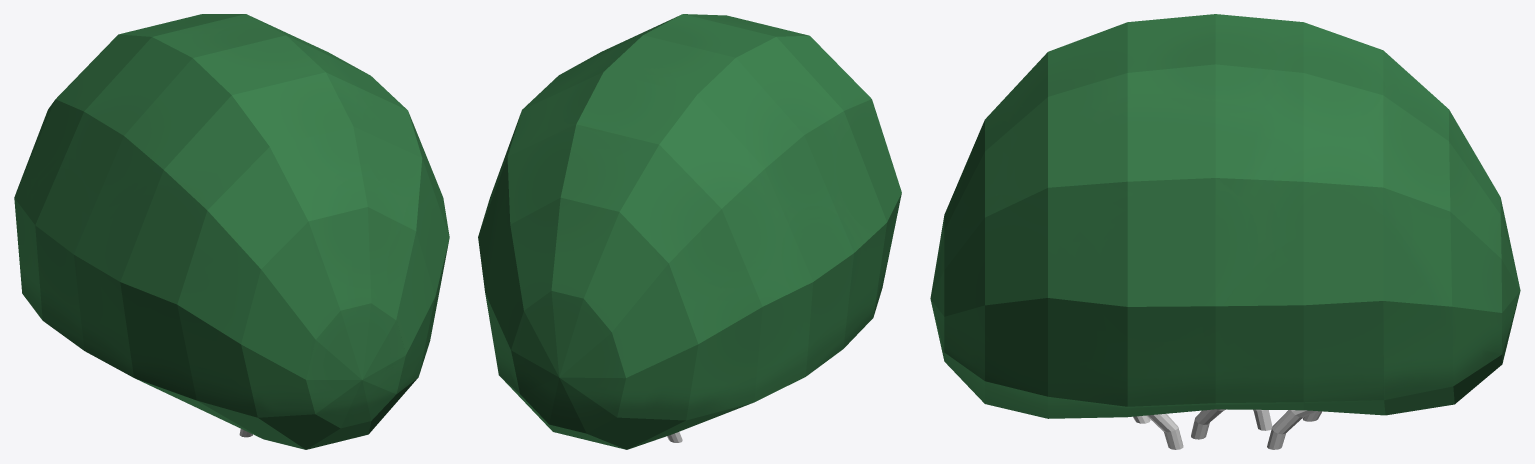
Rendered from bush (1).fbx.
The picture shows the model from 3 angles, left to right: view 1: azimuth 30°, elevation 25°; view 2: azimuth 150°, elevation 25°; view 3: azimuth 270°, elevation 25°; orthographic projection. The views are drawn at different scales.
Parts seen in each view (by area): view 1: pSphere1; view 2: pSphere1; view 3: pSphere1, pCylinder3, pCylinder1.
Boxes of the visible parts, left/top/right/bottom form: pSphere1: left=14, top=14, right=449, bottom=449; pSphere1: left=478, top=14, right=901, bottom=449; pSphere1: left=930, top=14, right=1520, bottom=418; pCylinder3: left=1267, top=410, right=1316, bottom=449; pCylinder1: left=1147, top=413, right=1183, bottom=449.
Size of the model in its own units: 367 by 375 by 506.
